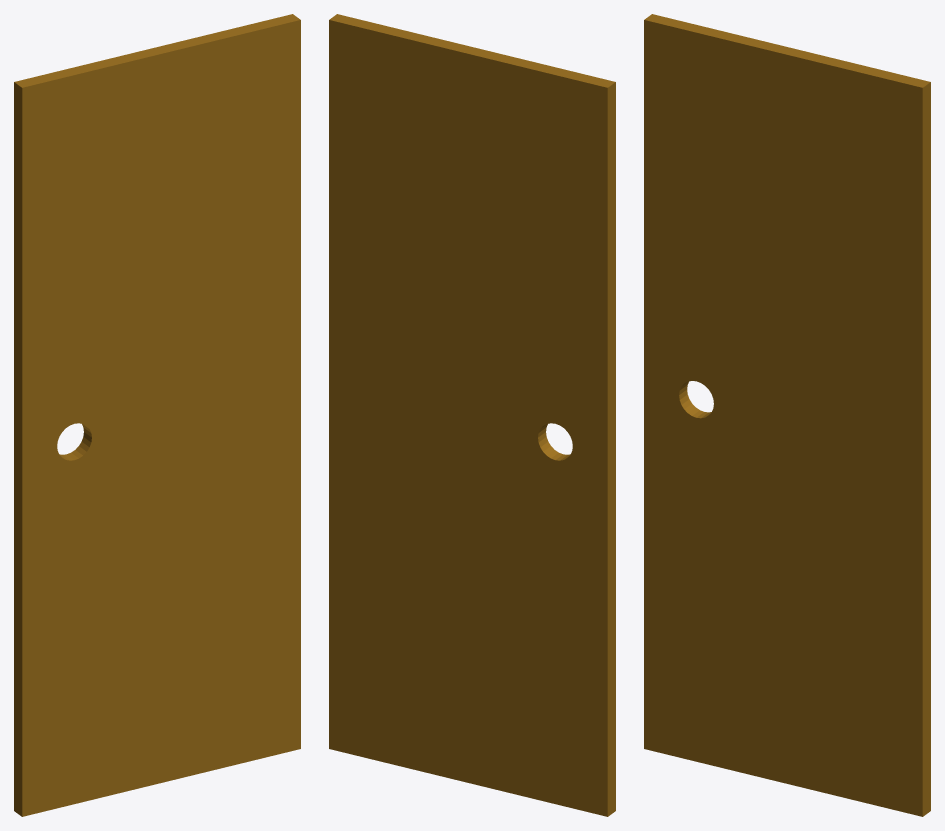
The model's file is door_1.3dxml.glb.
The picture shows the model from 3 angles, left to right: view 1: azimuth 30°, elevation 25°; view 2: azimuth 150°, elevation 25°; view 3: azimuth 330°, elevation 25°; orthographic projection.
Parts seen in each view (by area): view 1: door; view 2: door; view 3: door.
Part boxes in pixels (x1,y1,x2,y2): door: [14, 14, 300, 816]; door: [329, 14, 615, 816]; door: [644, 14, 930, 816].
Size of the model in its own units: 0.8 by 2 by 0.04.
